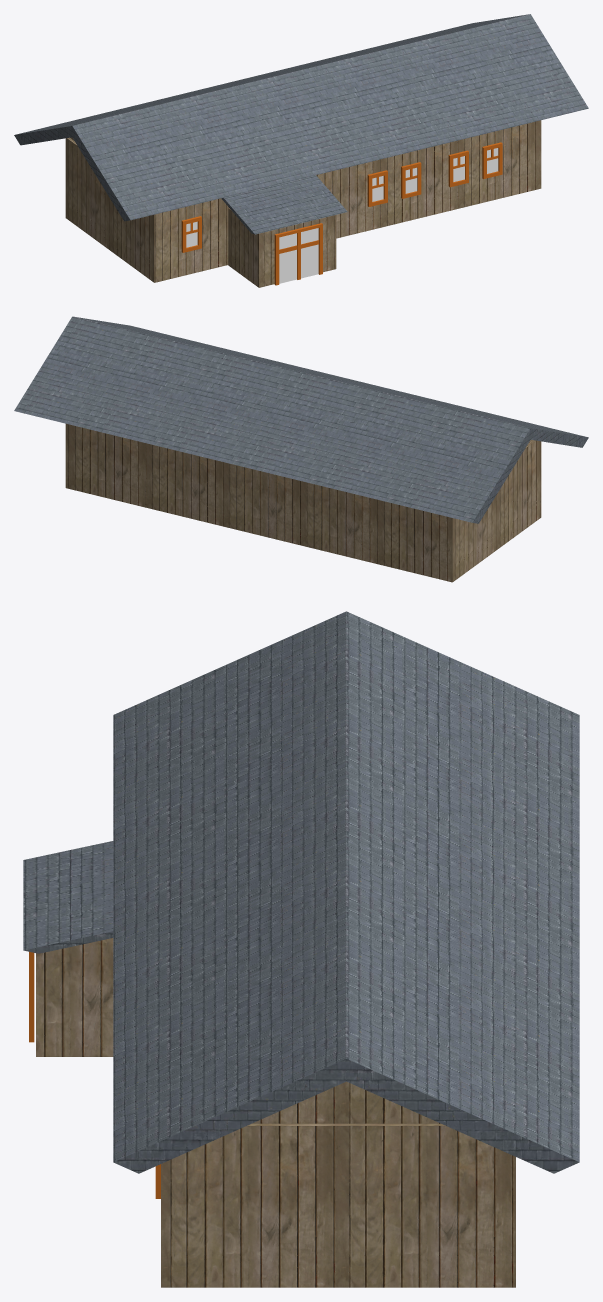
File: Administration.glb
The picture shows the model from 3 angles, top to bottom: view 1: azimuth 30°, elevation 25°; view 2: azimuth 150°, elevation 25°; view 3: azimuth 270°, elevation 25°; orthographic projection. The views are drawn at different scales.
Visible parts, largest first — view 1: mergedBlocks(Clone); view 2: mergedBlocks(Clone); view 3: mergedBlocks(Clone).
Part boxes in pixels (box(x1,y1,x2,y2)): mergedBlocks(Clone): box(14, 14, 588, 287); mergedBlocks(Clone): box(14, 316, 588, 582); mergedBlocks(Clone): box(23, 611, 579, 1287).
Bounding box in the file's own units: 5.93 × 1.63 × 3.12.
4 materials, 2 textured.
